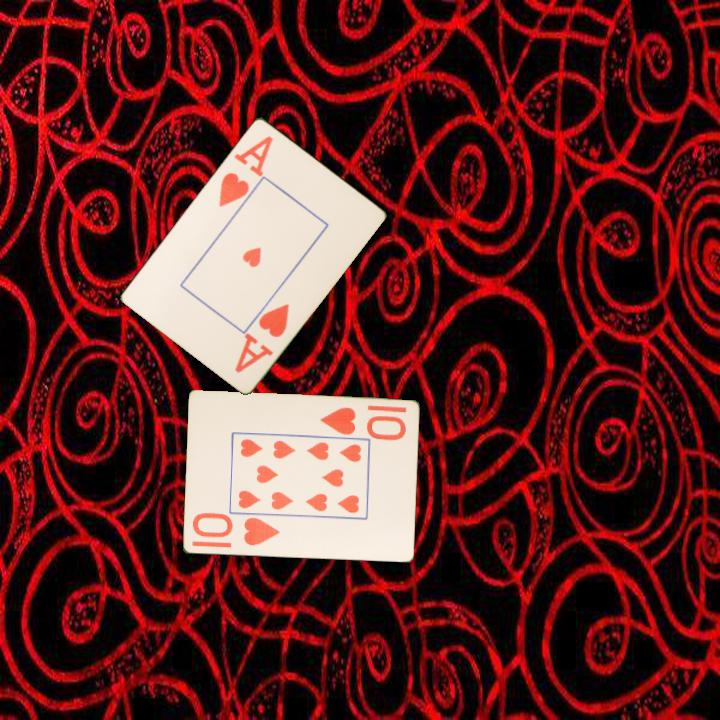10h: (188, 512, 282, 549), (316, 404, 409, 440)
Ah: (215, 132, 276, 210), (231, 299, 292, 376)
